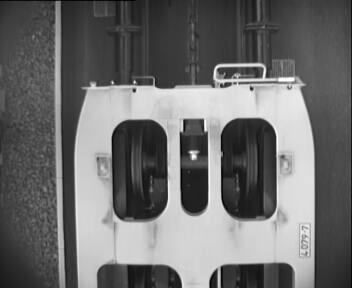twist_lock_2: (104, 113, 284, 225)
